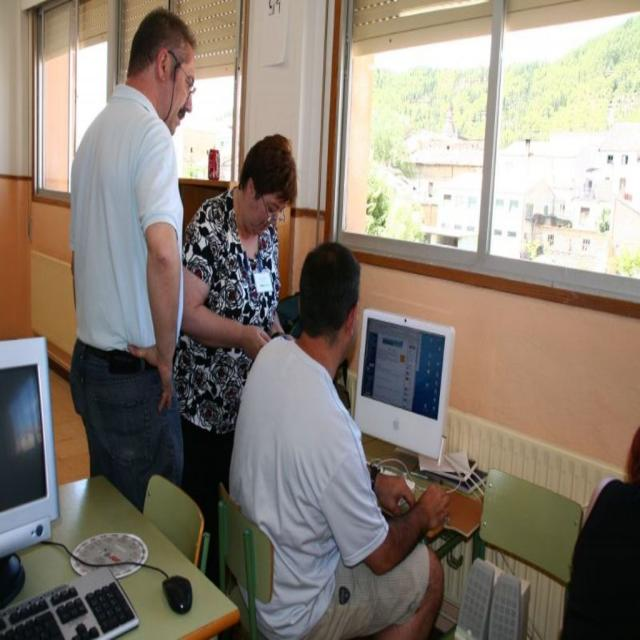chair: (218, 485, 442, 639), (218, 481, 274, 638), (142, 473, 206, 571)
desk: (18, 468, 226, 631)
keyboard: (0, 568, 142, 638)
mouse: (163, 573, 193, 615)
person: (228, 241, 450, 638), (68, 9, 200, 508), (172, 134, 297, 554), (560, 424, 640, 633)
tv: (354, 308, 456, 464), (0, 336, 60, 559)
